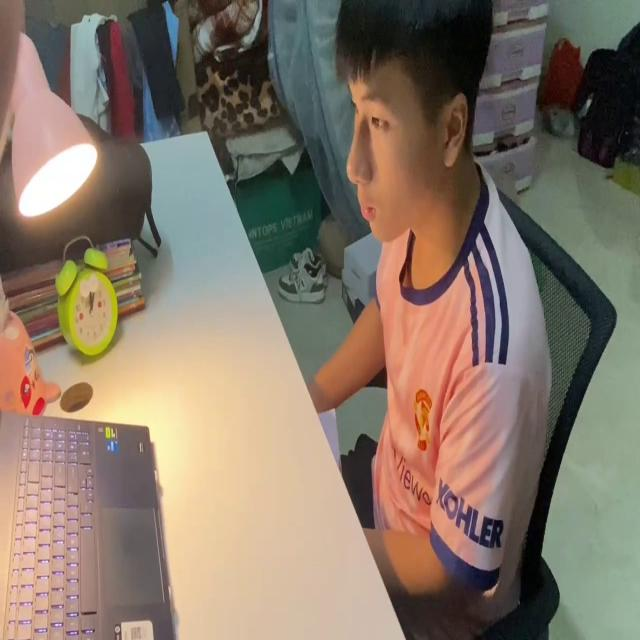book: (317, 398, 343, 474)
laptop: (0, 402, 178, 640)
student: (300, 0, 548, 640)
